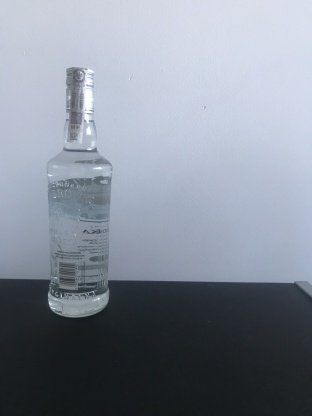nakretka: (63, 62, 97, 117)
